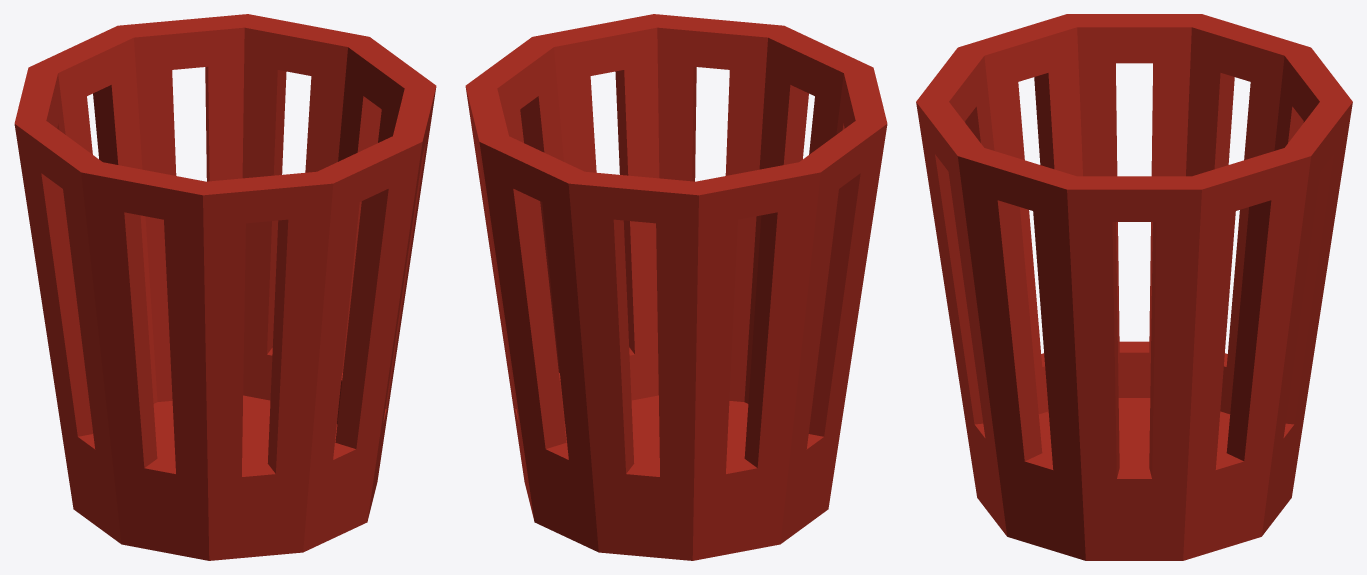
File: Trashcan.fbx
The picture shows the model from 3 angles, left to right: view 1: azimuth 30°, elevation 25°; view 2: azimuth 150°, elevation 25°; view 3: azimuth 270°, elevation 25°; orthographic projection.
Parts seen in each view (by area): view 1: Trashcan; view 2: Trashcan; view 3: Trashcan.
Part boxes in pixels (<box>): Trashcan: <box>14,14,436,560</box>; Trashcan: <box>465,14,887,560</box>; Trashcan: <box>916,14,1352,560</box>.
Size of the model in its own units: 0.465 by 0.4889 by 0.4889.
